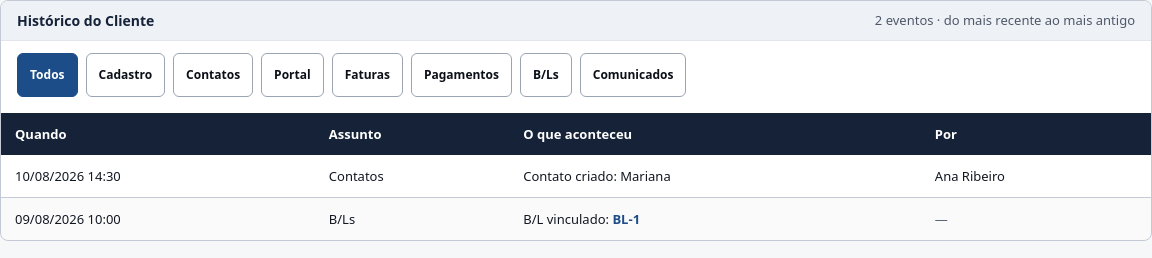
Test: HistoricoTab › mostra Assunto e Por; só o identificador é link; filtra por assunto
The image size is (1152, 258).
Click the button "B/Ls". click: (546, 75)
box: [520, 53, 572, 97]
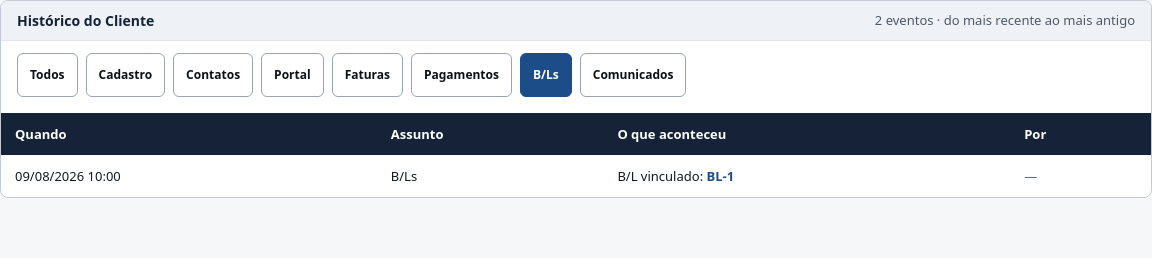
Check: the text "Contato criado: Mariana" is gone
